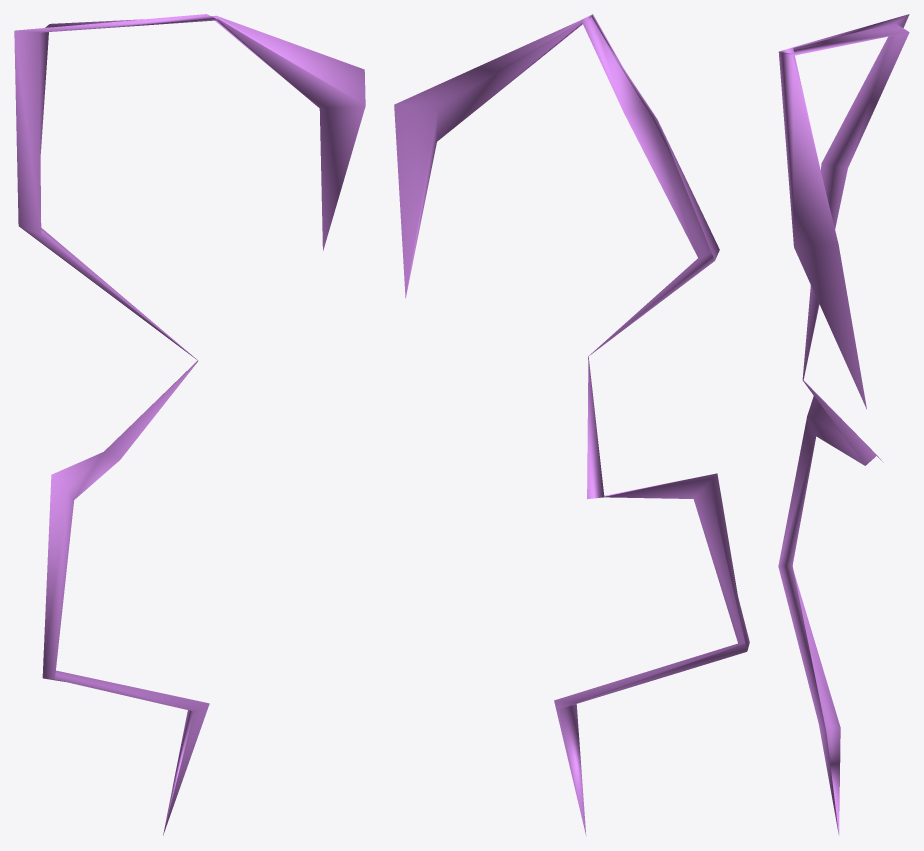
The model's file is cgwell1_light_001.FBX.
The picture shows the model from 3 angles, left to right: view 1: azimuth 30°, elevation 25°; view 2: azimuth 150°, elevation 25°; view 3: azimuth 270°, elevation 25°; orthographic projection. The views are drawn at different scales.
Parts seen in each view (by area): view 1: Plane003; view 2: Plane003; view 3: Plane003.
Boxes of the visible parts, bbox=[...] form: Plane003: bbox=[14, 14, 365, 835]; Plane003: bbox=[394, 14, 749, 835]; Plane003: bbox=[778, 14, 909, 834].
Size of the model in its own units: 46.03 by 106 by 15.82.
